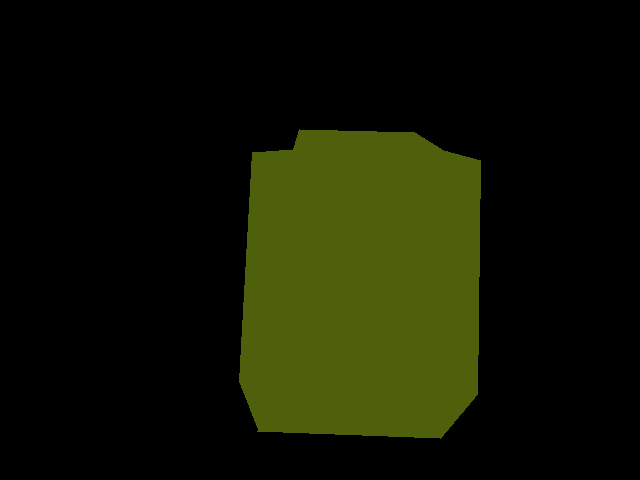Train: (239, 129, 481, 439)
